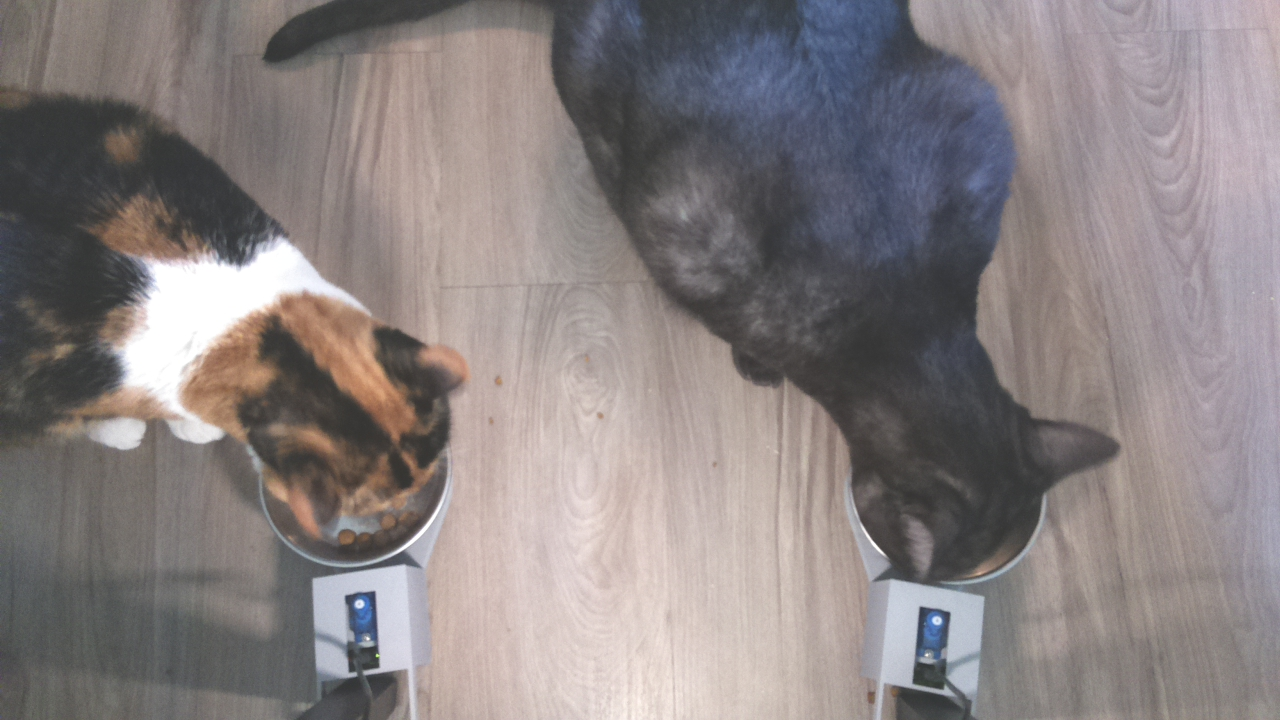bella_eating: (183, 261, 487, 578)
saki_eating: (785, 371, 1134, 592)
